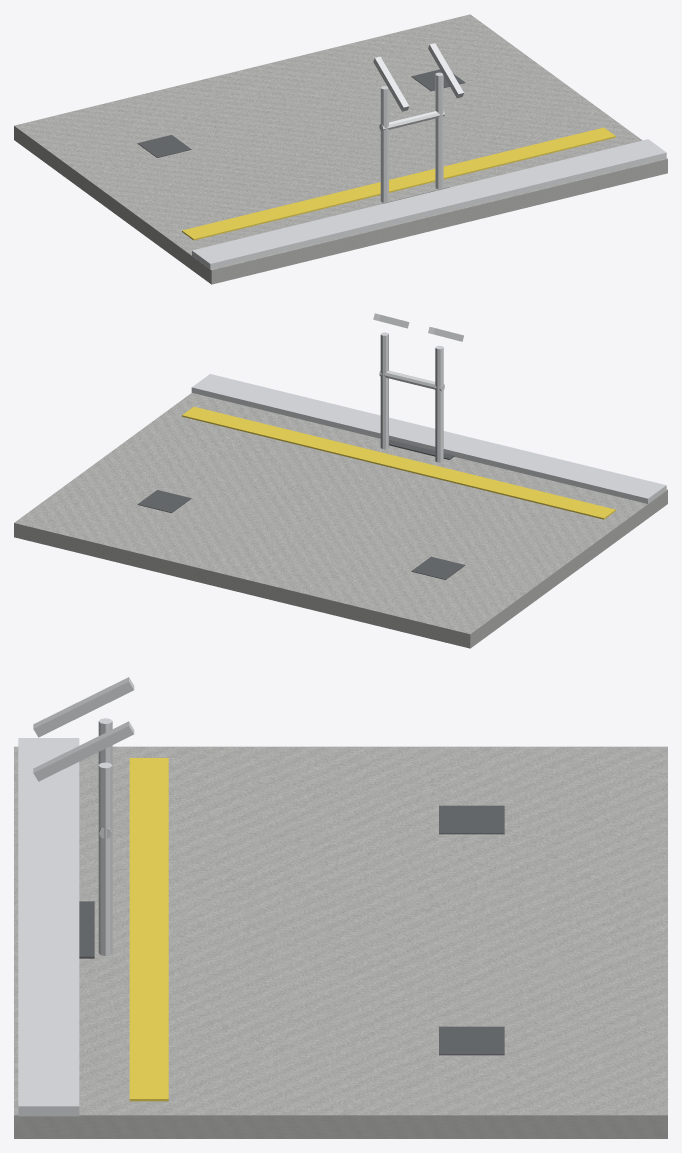
The model's file is fish-market-and-trawler-quay-fish-market-and-trawler-q-8586e645__37269.glb.
3 renders of one model, top to bottom at view 1: azimuth 30°, elevation 25°; view 2: azimuth 150°, elevation 25°; view 3: azimuth 270°, elevation 25°, orthographic. The views are drawn at different scales.
Visible parts, largest first — view 1: fish-market-and-trawler-quay-quay-edge-module; view 2: fish-market-and-trawler-quay-quay-edge-module; view 3: fish-market-and-trawler-quay-quay-edge-module.
Boxes of the visible parts, bbox=[...] form: fish-market-and-trawler-quay-quay-edge-module: bbox=[14, 14, 667, 284]; fish-market-and-trawler-quay-quay-edge-module: bbox=[14, 313, 667, 648]; fish-market-and-trawler-quay-quay-edge-module: bbox=[14, 677, 667, 1138].
Size of the model in its own units: 4 by 1.28 by 3.
Materials: 4 (1 with a texture image).
